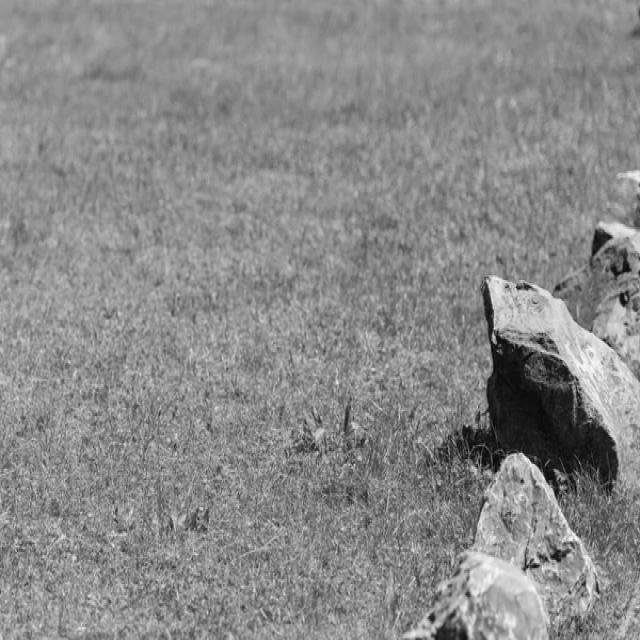Stone: (404, 454, 602, 640), (484, 277, 640, 483), (562, 168, 640, 338)
